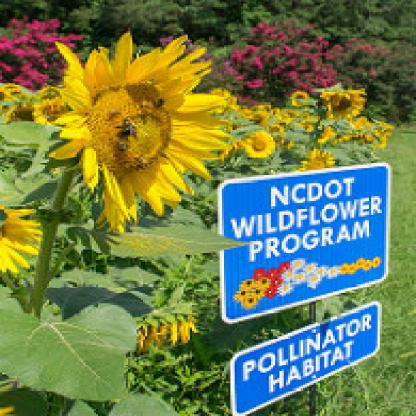SUN FLOWER: (20, 18, 298, 249)
